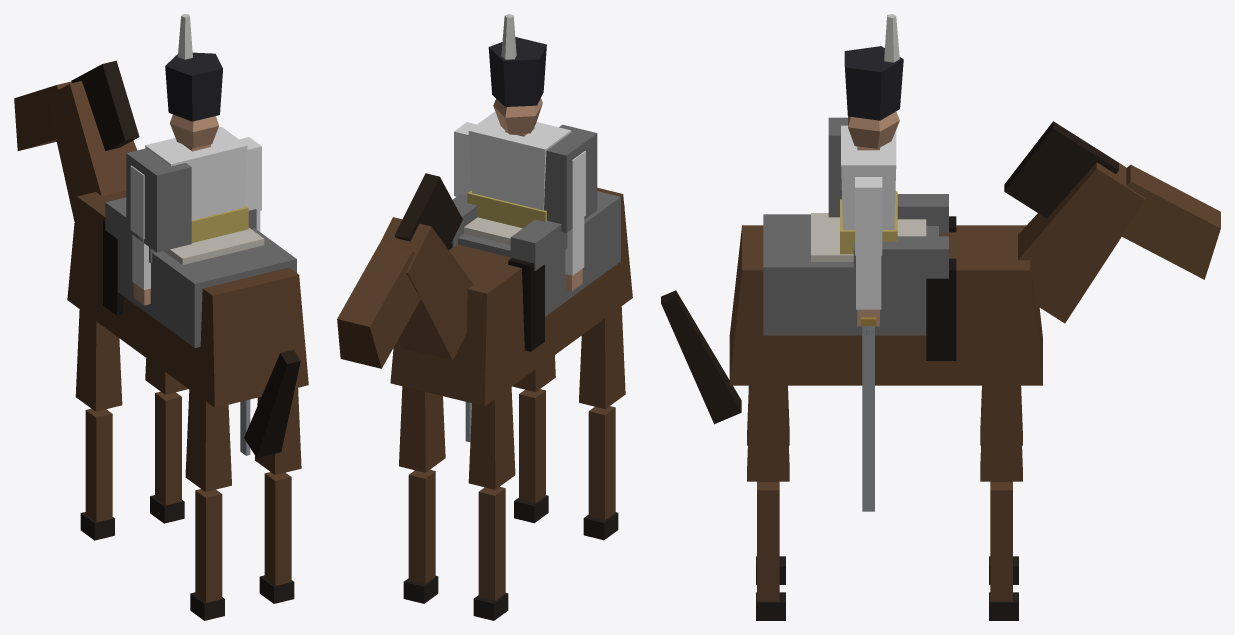
File: cavalry_c19_hussar_lod1.glb
3 renders of one model, left to right at view 1: azimuth 30°, elevation 25°; view 2: azimuth 150°, elevation 25°; view 3: azimuth 270°, elevation 25°, orthographic. The views are drawn at different scales.
Visible parts, largest first — view 1: c19_hussar_lod1_static; view 2: c19_hussar_lod1_static; view 3: c19_hussar_lod1_static.
Part boxes in pixels (<box>): c19_hussar_lod1_static: <box>14,14,308,620</box>; c19_hussar_lod1_static: <box>337,14,632,620</box>; c19_hussar_lod1_static: <box>661,14,1220,620</box>.
Size of the model in its own units: 0.59 by 2.56 by 2.23.
